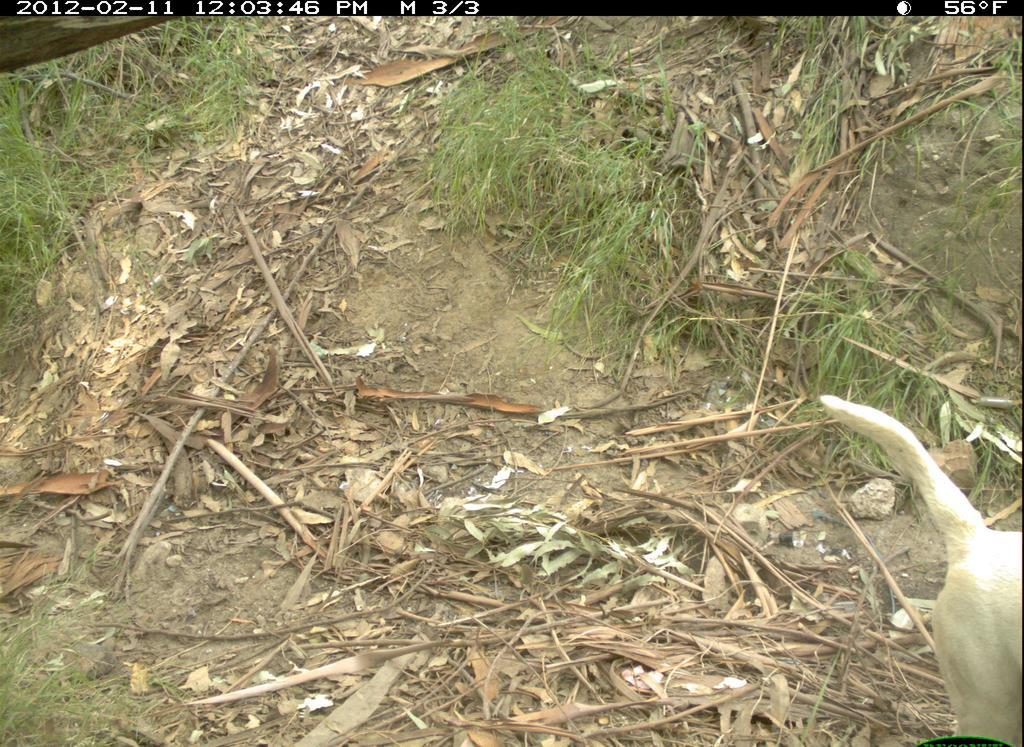dog: (794, 378, 1023, 747)
